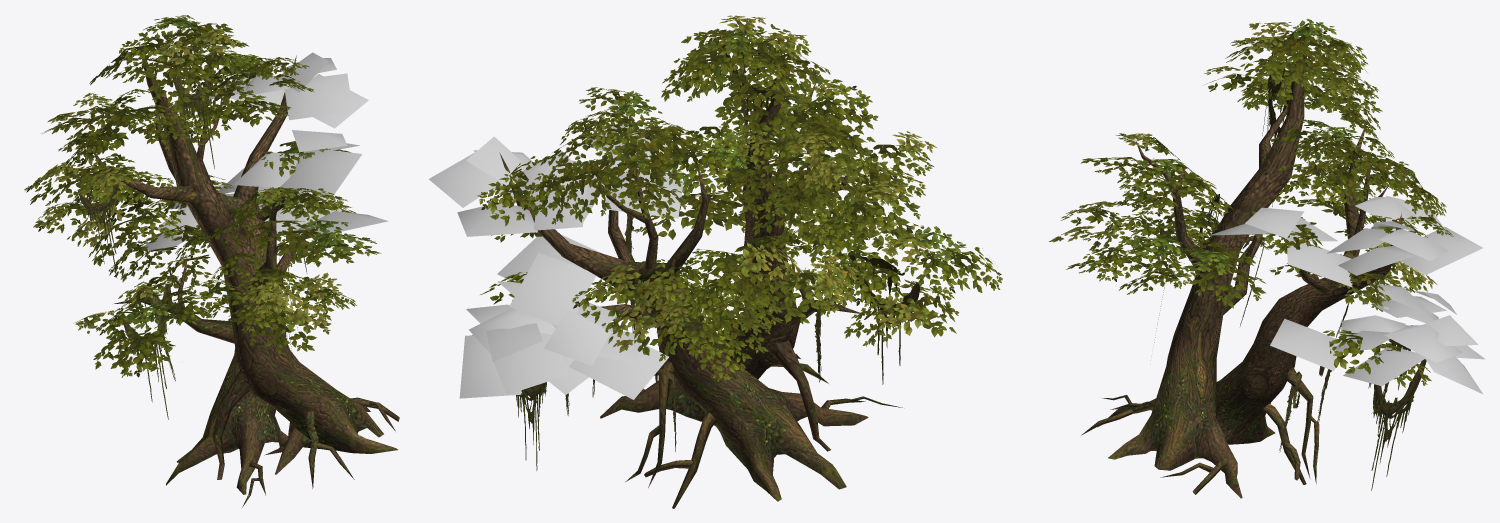
The model's file is fb_bangzhan_Trees.FBX.
The picture shows the model from 3 angles, left to right: view 1: azimuth 30°, elevation 25°; view 2: azimuth 150°, elevation 25°; view 3: azimuth 270°, elevation 25°; orthographic projection. The views are drawn at different scales.
Visible parts, largest first — view 1: Object001; view 2: Object001; view 3: Object001.
Boxes of the visible parts, x1,y1,x2,y2 form: Object001: (24, 15, 399, 507); Object001: (428, 15, 1002, 508); Object001: (1049, 19, 1485, 498).
Bounding box in the file's own units: 1767 × 2011 × 1869.
